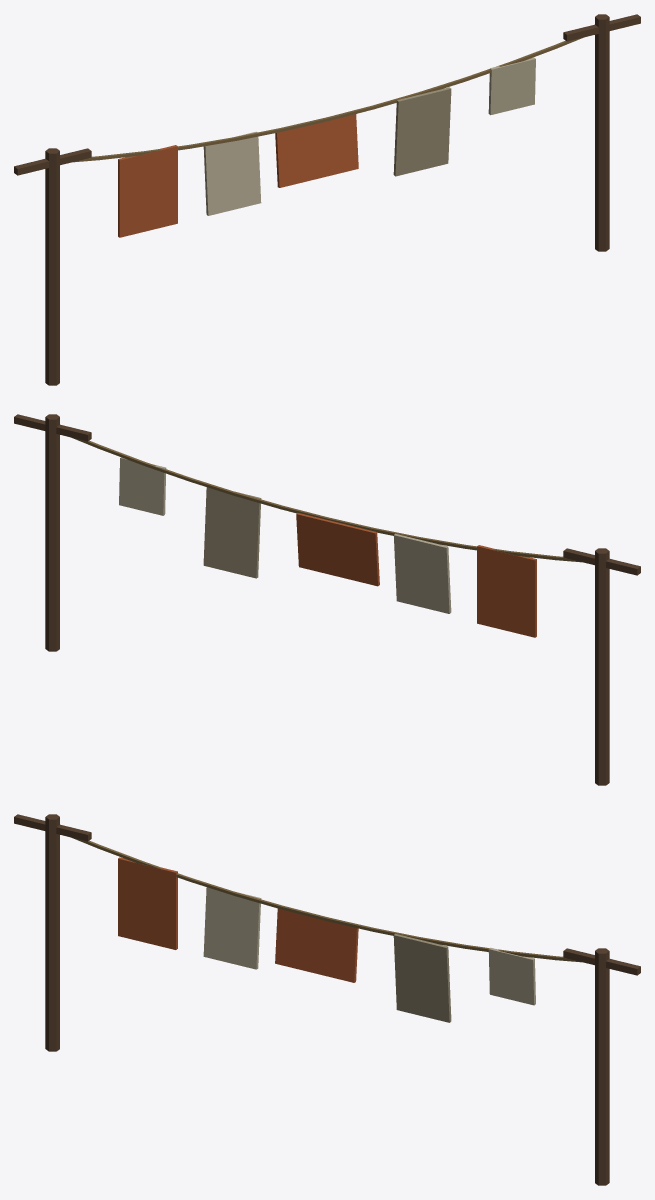
Rendered from DressWashLine.glb.
3 renders of one model, top to bottom at view 1: azimuth 30°, elevation 25°; view 2: azimuth 150°, elevation 25°; view 3: azimuth 330°, elevation 25°, orthographic.
Parts seen in each view (by area): view 1: DressWashLine; view 2: DressWashLine; view 3: DressWashLine.
Boxes of the visible parts, left/top/right/bottom form: DressWashLine: left=14, top=14, right=640, bottom=385; DressWashLine: left=14, top=414, right=640, bottom=785; DressWashLine: left=14, top=814, right=640, bottom=1185.
Bounding box in the file's own units: 5.9 × 2.1 × 0.12.
